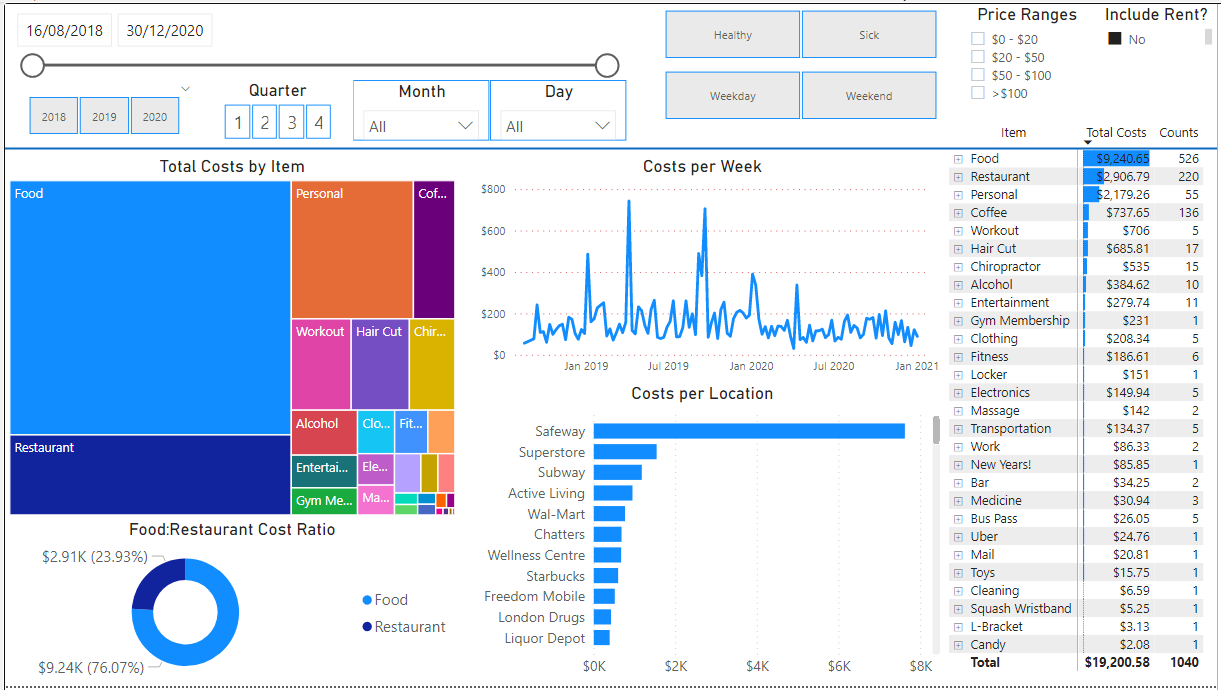

The dashboard page shown, as its layout file describes it:
{"tool":"powerbi","page":{"name":"Executive Summary","canvas":[1280,720],"ordinal":0},"visuals":[{"type":"slicer","fields":{"Values":["Calendar_Lookup.Date"]},"box":[0,0,656.5,79.4],"z":1000},{"type":"treemap","title":"Total Costs by Item","fields":{"Values":["Finance_Data.Total_Costs"],"Group":["Item_Lookup.Item"]},"box":[0,160,480,384],"z":2000},{"type":"slicer","title":"Include Rent?","fields":{"Values":["Item_Lookup.Item(NoRent)"]},"box":[1152,0,128,48],"z":3000},{"type":"barChart","title":"Costs per Location","fields":{"Y":["Sum(Finance_Data.COST)"],"Category":["Finance_Data.LOCATION"]},"box":[480,400,512,320],"z":4000},{"type":"lineChart","title":"Costs per Week","fields":{"Y":["Sum(Finance_Data.COST)"],"Category":["Calendar_Lookup.End_of_Week"]},"box":[480,160,512,240],"z":5000},{"type":"donutChart","title":"Food:Restaurant Cost Ratio","fields":{"Y":["Sum(Finance_Data.COST)"],"Category":["Finance_Data.Food(Boolean)"]},"box":[0,544,480,176],"z":6000},{"type":"pivotTable","fields":{"Rows":["Item_Lookup.Item","Finance_Data.LOCATION","Finance_Data.Price_Ranges"],"Values":["Finance_Data.Total_Costs","CountNonNull(Finance_Data.ITEM)"]},"box":[992.1,120.1,287.9,599.6],"z":7000},{"type":"slicer","title":"Day","fields":{"Values":["Calendar_Lookup.Day_Name"]},"box":[512,80,144,64],"z":8000},{"type":"slicer","title":"Month","fields":{"Values":["Calendar_Lookup.Month_Name"]},"box":[368,80,144,64],"z":9000},{"type":"slicer","title":"Quarter","fields":{"Values":["Calendar_Lookup.Quarter"]},"box":[208,80,160,64],"z":10000},{"type":"slicer","fields":{"Values":["Finance_Data.Sick(Boolean)"]},"box":[672,0,336,64],"z":11000},{"type":"slicer","title":"Price Ranges","fields":{"Values":["Finance_Data.Price_Ranges"]},"box":[1008,0,144,112],"z":12000},{"type":"slicer","fields":{"Values":["Calendar_Lookup.Year"]},"box":[0,80,208,64],"z":13000},{"type":"slicer","fields":{"Values":["Calendar_Lookup.Weekday"]},"box":[672,64,336,64],"z":14000},{"type":"shape","box":[0,144,1280,16],"z":14500}]}

Visuals, with their boxes in screenshot pixels (x1, y1, x2, y2), scaled from the page's 1280x720 canvas onto the 1221x690 screenshot:
slicer - Calendar_Lookup.Date: box(0, 0, 626, 76)
"Total Costs by Item" treemap: box(0, 153, 458, 521)
"Include Rent?" slicer: box(1099, 0, 1220, 46)
"Costs per Location" barChart: box(458, 383, 946, 689)
"Costs per Week" lineChart: box(458, 153, 946, 383)
"Food:Restaurant Cost Ratio" donutChart: box(0, 521, 458, 689)
pivotTable - Item_Lookup.Item x Finance_Data.LOCATION: box(946, 115, 1220, 689)
"Day" slicer: box(488, 77, 626, 138)
"Month" slicer: box(351, 77, 488, 138)
"Quarter" slicer: box(198, 77, 351, 138)
slicer - Finance_Data.Sick(Boolean): box(641, 0, 962, 61)
"Price Ranges" slicer: box(962, 0, 1099, 107)
slicer - Calendar_Lookup.Year: box(0, 77, 198, 138)
slicer - Calendar_Lookup.Weekday: box(641, 61, 962, 123)
shape: box(0, 138, 1220, 153)
